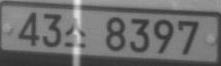3: (129, 17, 149, 53), (41, 12, 61, 47)
4: (18, 11, 40, 46)
7: (177, 19, 199, 55)
8: (104, 16, 126, 51)
9: (152, 18, 174, 54)
소: (64, 17, 86, 47)
